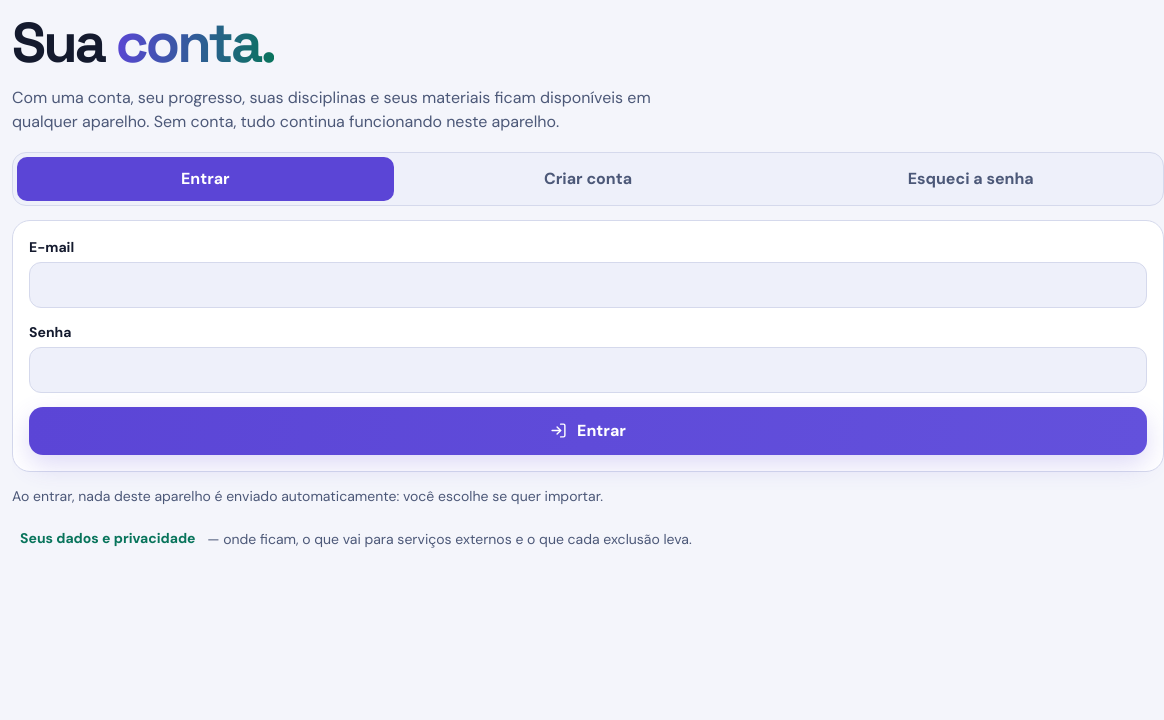
tela Conta (conta simulada) › criar conta não revela se o e-mail já existia
Click the button "Criar conta" at [588, 179], box [400,157,776,201]
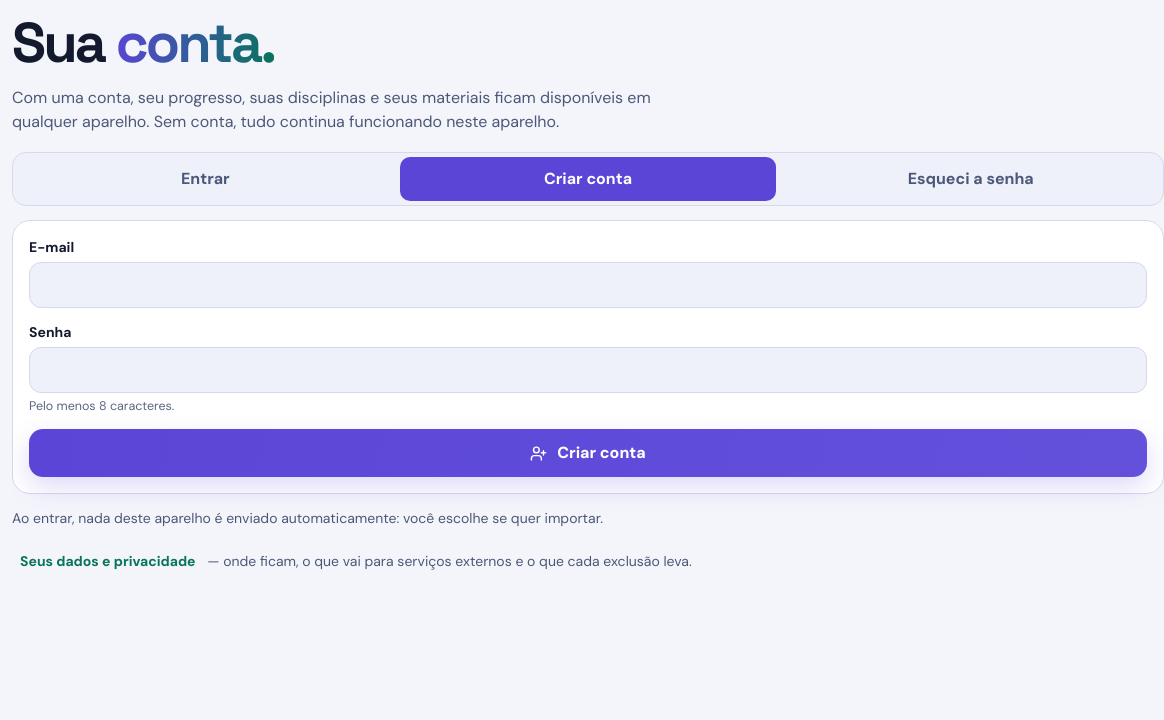
Type "a@b.com" into the field labelled "E-mail" at [588, 285], box [29,262,1147,308]
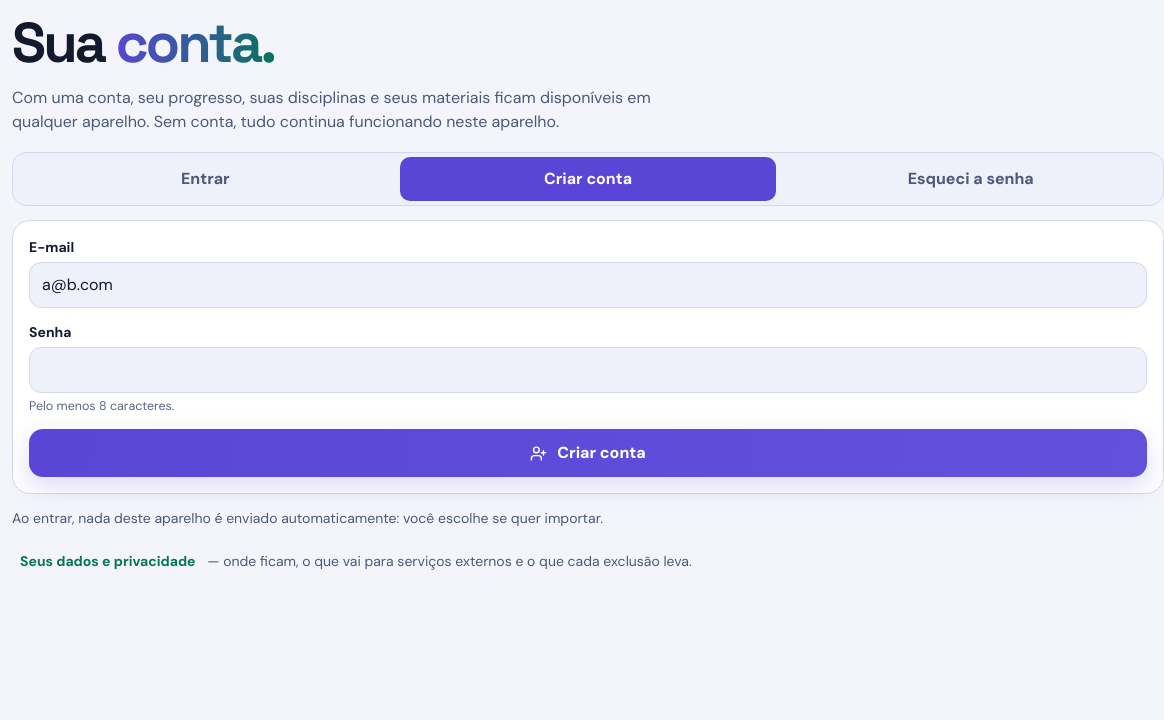
Type "12345678" into the password field labelled "Senha Pelo menos 8 caracteres." at [588, 370], box [29,347,1147,393]
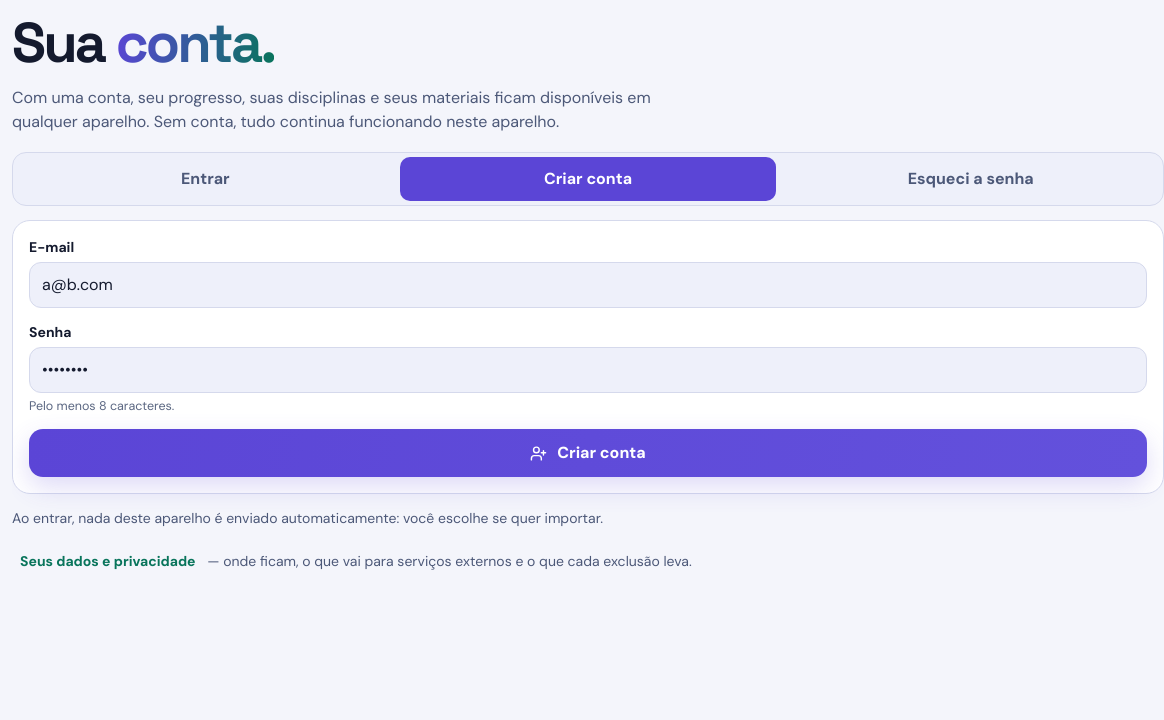
Submit the form "Criar conta", box [12,220,1163,494]
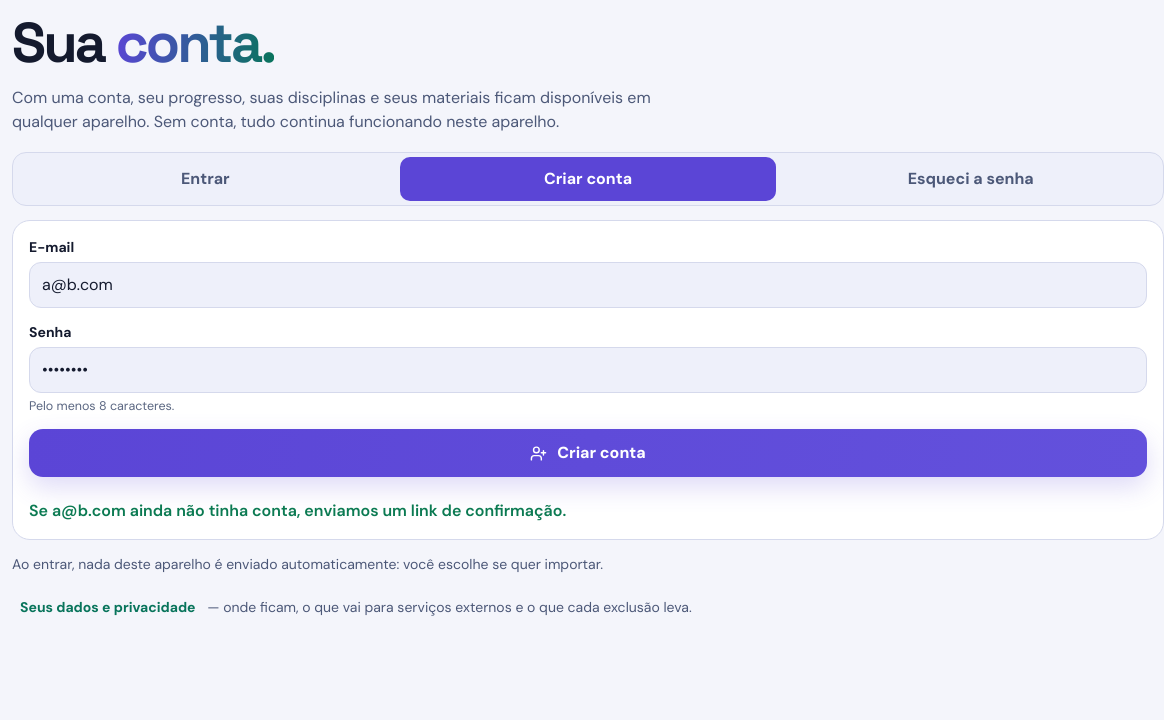
Now the message shows "Se a@b.com ainda não tinha conta", box [29,500,566,521]
